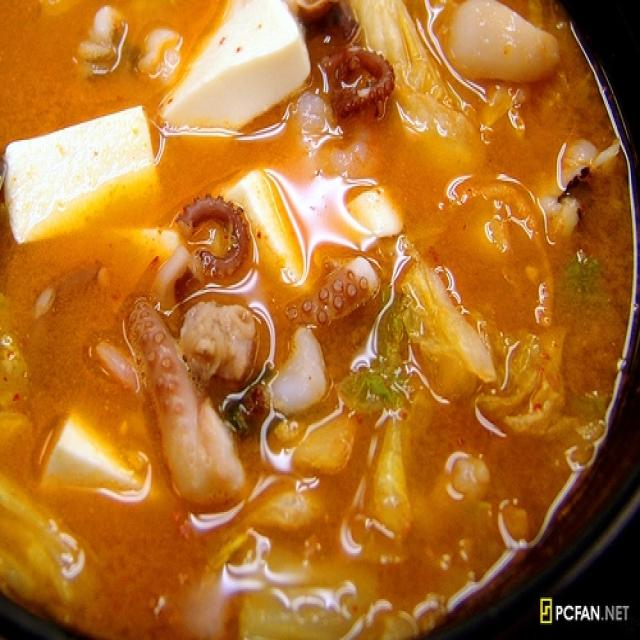汤锅炖物: (23, 24, 589, 590)
